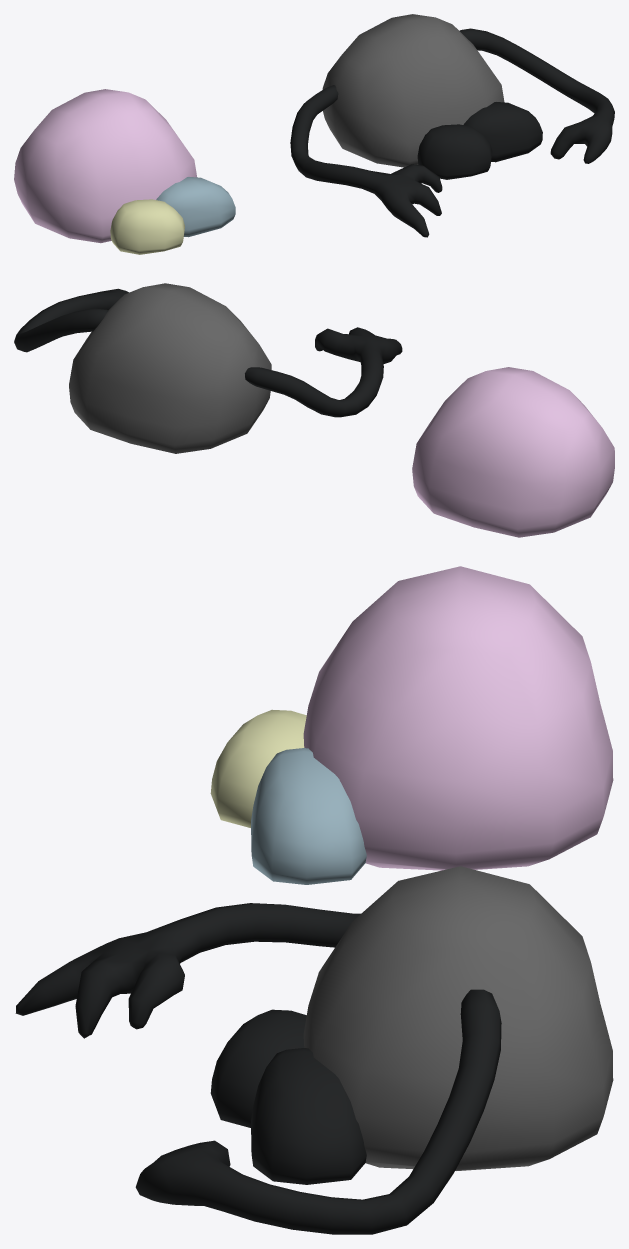
Rendered from Roccia dream.fbx.
The picture shows the model from 3 angles, top to bottom: view 1: azimuth 30°, elevation 25°; view 2: azimuth 150°, elevation 25°; view 3: azimuth 270°, elevation 25°; orthographic projection. The views are drawn at different scales.
Visible parts, largest first — view 1: sassone_dream, sassone_nightmare, braccio_sx, braccio_dx, sasso1_dream, sasso1_nightmare, sasso2_nightmare, sasso2_dream; view 2: sassone_dream, sassone_nightmare, braccio_sx, braccio_dx; view 3: sassone_dream, sassone_nightmare, braccio_dx, braccio_sx, sasso2_nightmare, sasso2_dream, sasso1_nightmare, sasso1_dream.
Part boxes in pixels (left/top/right/bottom): sassone_dream: left=14, top=89, right=196, bottom=243; sassone_nightmare: left=322, top=14, right=504, bottom=167; braccio_sx: left=290, top=85, right=442, bottom=237; braccio_dx: left=459, top=28, right=614, bottom=163; sasso1_dream: left=110, top=199, right=184, bottom=254; sasso1_nightmare: left=417, top=124, right=492, bottom=179; sasso2_nightmare: left=463, top=102, right=542, bottom=162; sasso2_dream: left=156, top=177, right=235, bottom=237; sassone_dream: left=412, top=367, right=614, bottom=537; sassone_nightmare: left=69, top=283, right=271, bottom=453; braccio_sx: left=245, top=327, right=402, bottom=417; braccio_dx: left=14, top=288, right=128, bottom=352; sassone_dream: left=303, top=566, right=613, bottom=870; sassone_nightmare: left=303, top=866, right=613, bottom=1170; braccio_dx: left=135, top=989, right=501, bottom=1234; braccio_sx: left=15, top=903, right=360, bottom=1038; sasso2_nightmare: left=251, top=1048, right=366, bottom=1184; sasso2_dream: left=251, top=748, right=366, bottom=884; sasso1_nightmare: left=210, top=1009, right=306, bottom=1127; sasso1_dream: left=210, top=709, right=306, bottom=827.
Size of the model in its own units: 4.27 by 0.8581 by 2.03.
